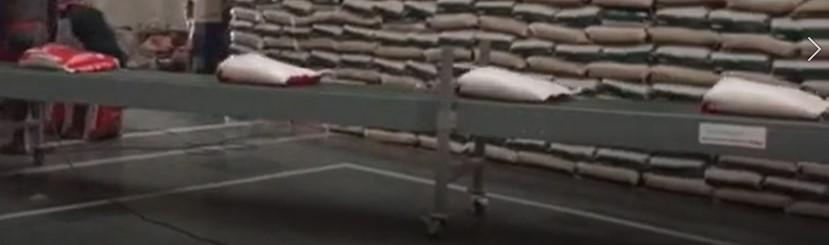rice-bag: (701, 76, 828, 120), (457, 66, 573, 101), (216, 53, 322, 86), (18, 43, 118, 72)
